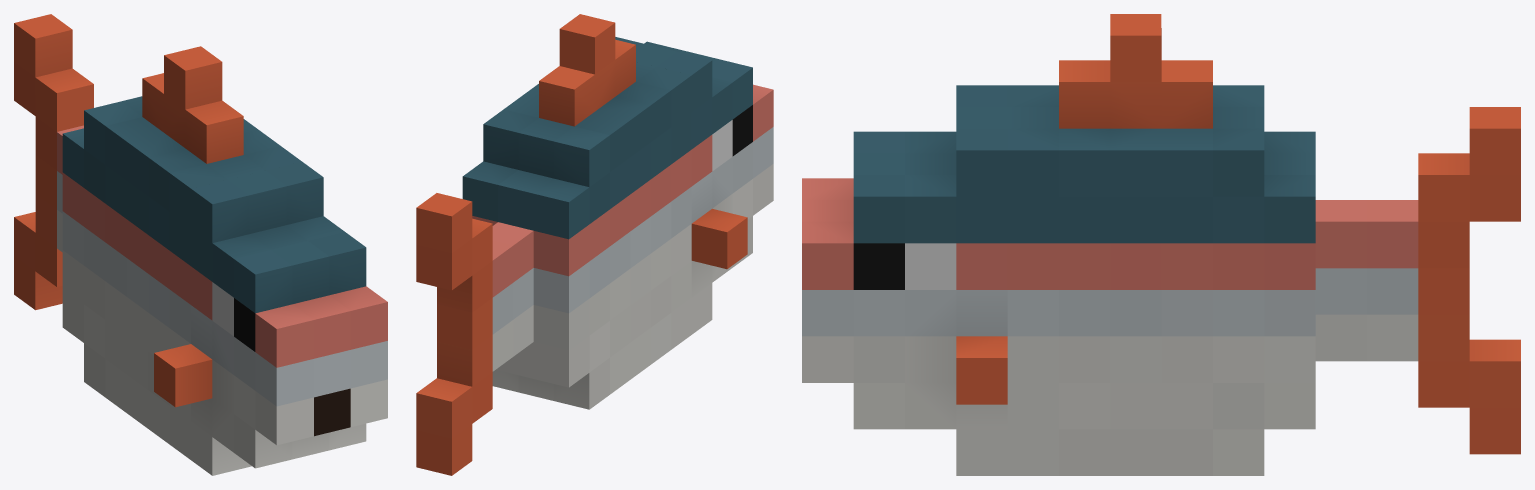
Rendered from fish_classic.glb.
The picture shows the model from 3 angles, left to right: view 1: azimuth 30°, elevation 25°; view 2: azimuth 150°, elevation 25°; view 3: azimuth 270°, elevation 25°; orthographic projection. The views are drawn at different scales.
Parts seen in each view (by area): view 1: Seg0, Seg1, Seg2, Seg4, Seg3; view 2: Seg2, Seg1, Seg0, Seg4, Seg3; view 3: Seg1, Seg0, Seg2, Seg4, Seg3.
Boxes of the visible parts, <box> form: Seg0: <box>154,161,387,475</box>; Seg1: <box>127,46,301,459</box>; Seg2: <box>62,73,163,412</box>; Seg4: <box>14,14,93,310</box>; Seg3: <box>57,125,83,252</box>; Seg2: <box>462,66,630,409</box>; Seg1: <box>524,14,691,379</box>; Seg0: <box>615,37,773,334</box>; Seg4: <box>416,193,492,475</box>; Seg3: <box>492,222,533,371</box>; Seg1: <box>1007,14,1161,475</box>; Seg0: <box>802,85,1007,475</box>; Seg2: <box>1161,60,1315,475</box>; Seg4: <box>1418,107,1520,454</box>; Seg3: <box>1315,200,1418,361</box>.
Bounding box in the file's own units: 1 × 1.8 × 2.8.
